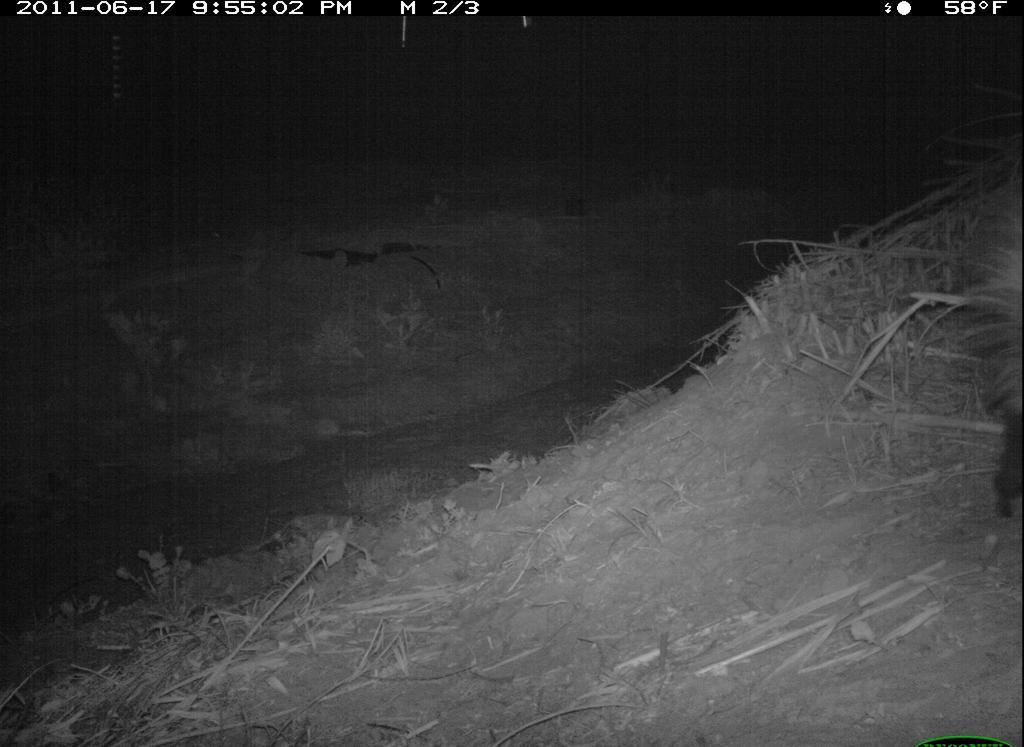skunk: (954, 208, 1023, 520)
